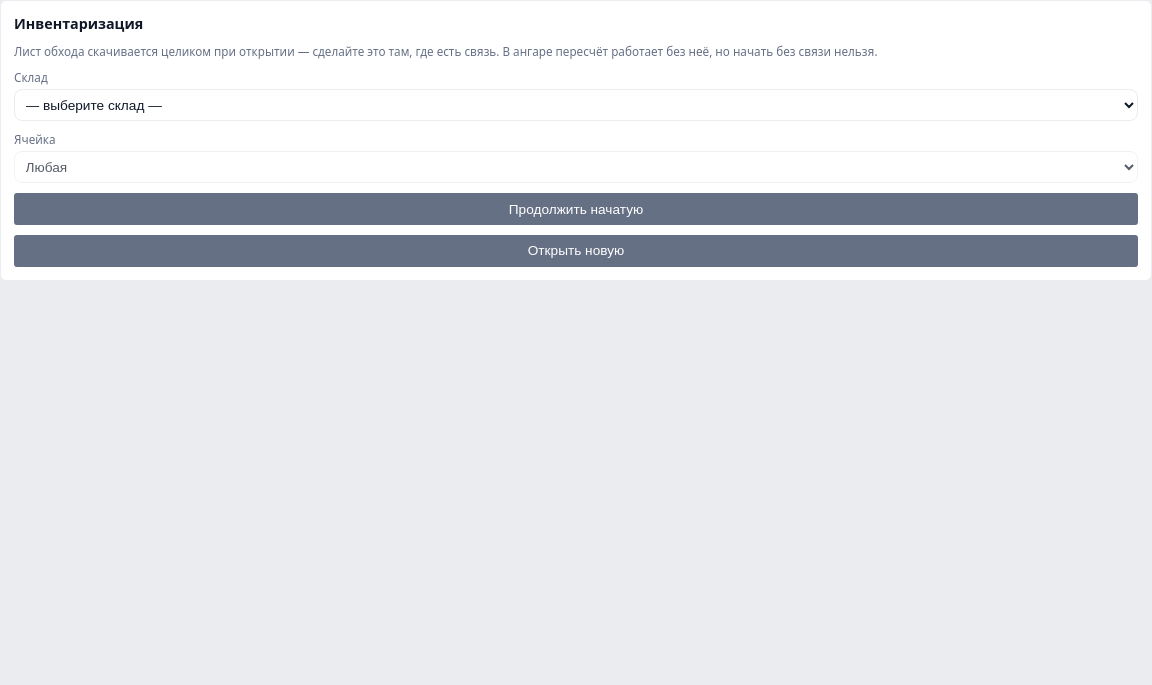
Test case: лист обхода пересчёта › строка листа называет номер; лист без поля и строка без номера — без « · »
Select "Ткацкая" in the dropdown labelled "Склад": (576, 105) 14,89 -> 1138,121
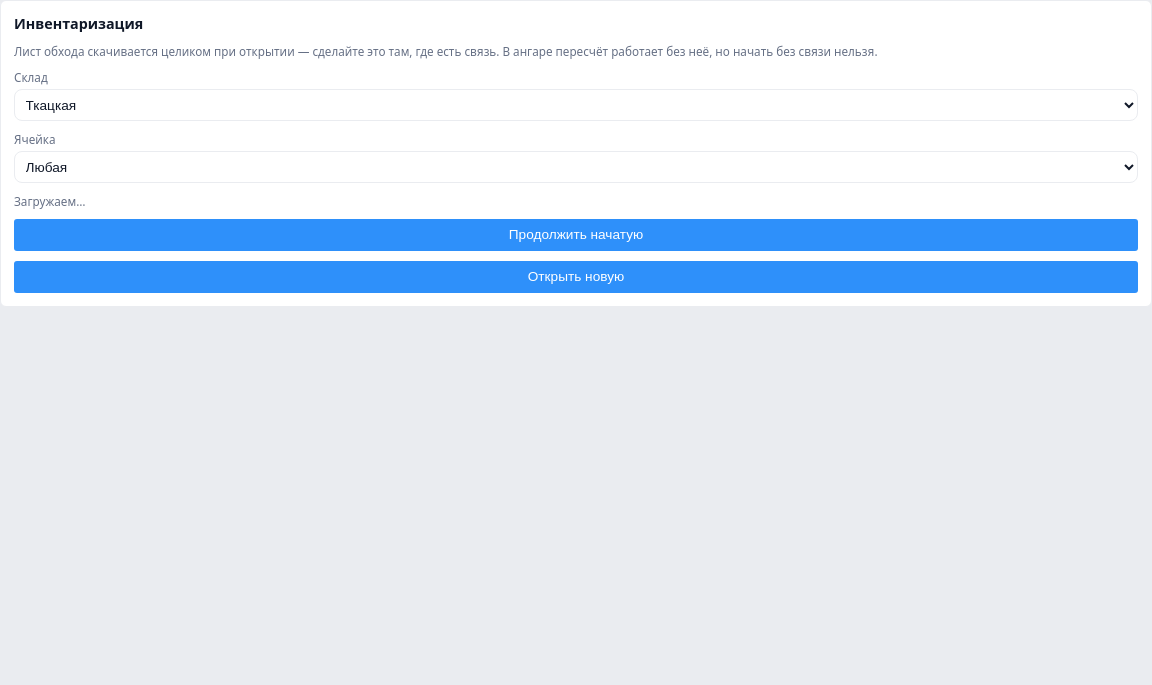
Click the button "Открыть новую": (576, 277) 14,261 -> 1138,293
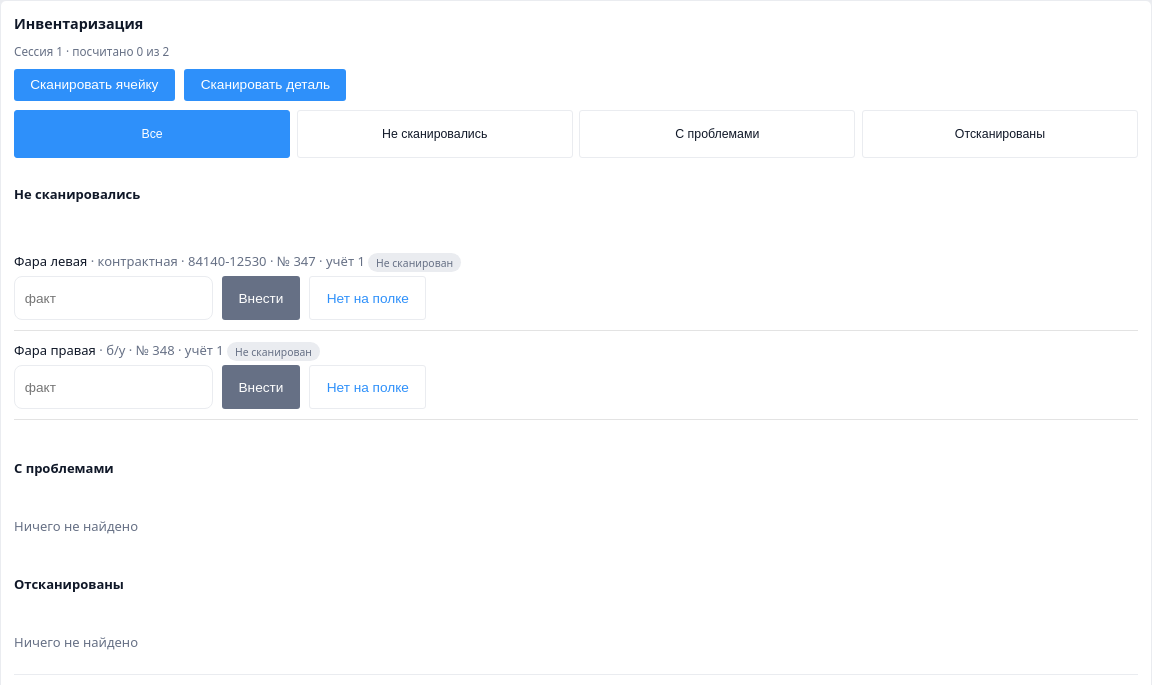
Check: the list item "Фара правая" shows "Фара правая · б/у · № 348", box 14,331 -> 1138,420
